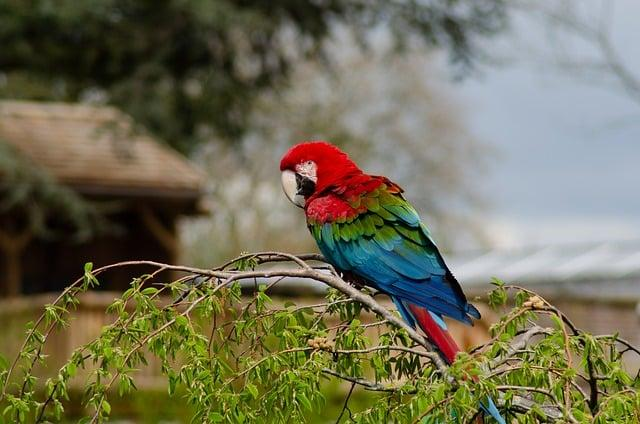Non_Gorille: (97, 0, 637, 424)
